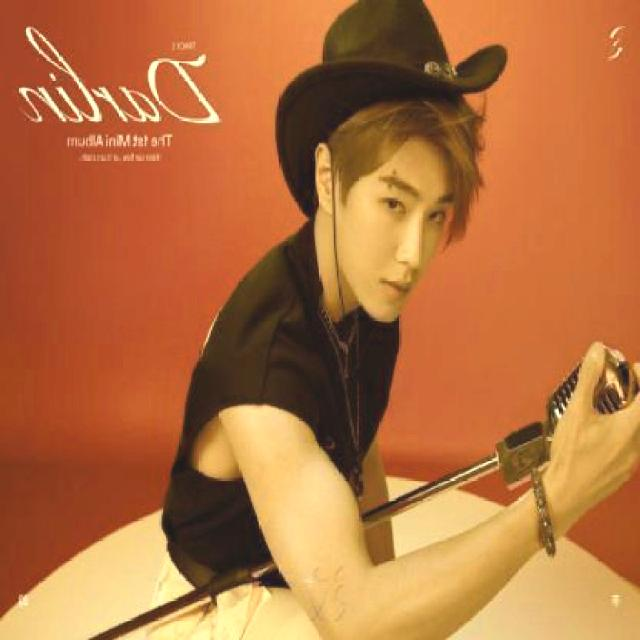face_nomask: (350, 140, 444, 331)
hand_noglove: (554, 338, 640, 532)
head_nohelmet: (357, 90, 488, 168)
person: (106, 52, 612, 640)
